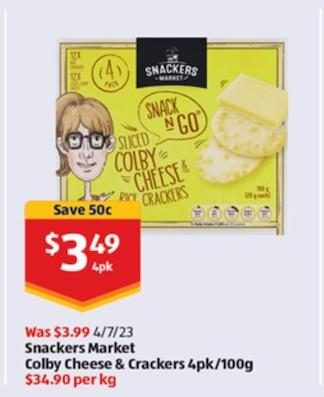description_block: (18, 337, 269, 375)
price_main: (18, 219, 152, 314)
product_image_block: (54, 42, 291, 227)
promo_text_block: (18, 191, 156, 221)
unit_price_block: (15, 369, 129, 390)
